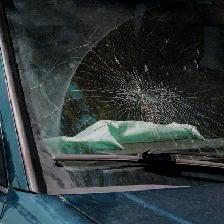glass_shatter: (67, 35, 220, 166)
